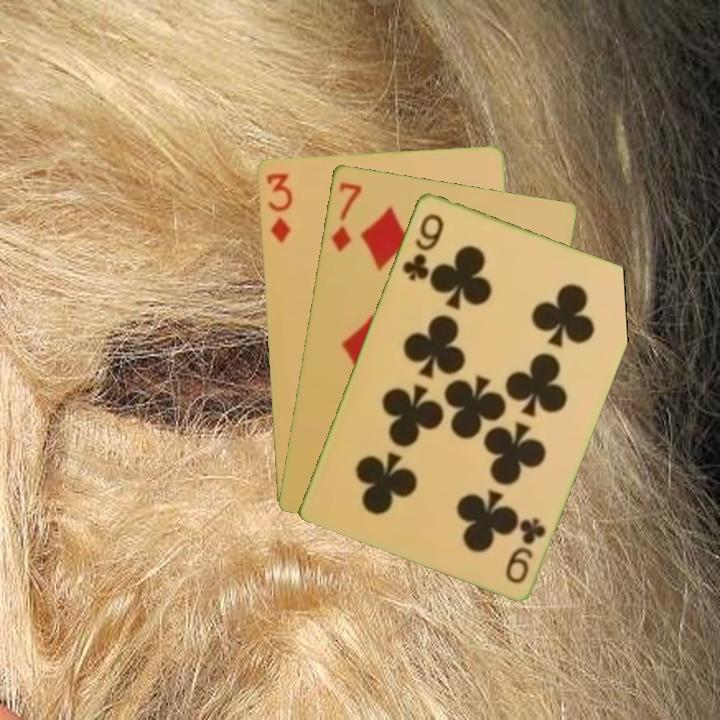3d: (263, 169, 295, 246)
7d: (327, 178, 364, 254)
9c: (398, 209, 447, 283), (501, 513, 549, 586)
